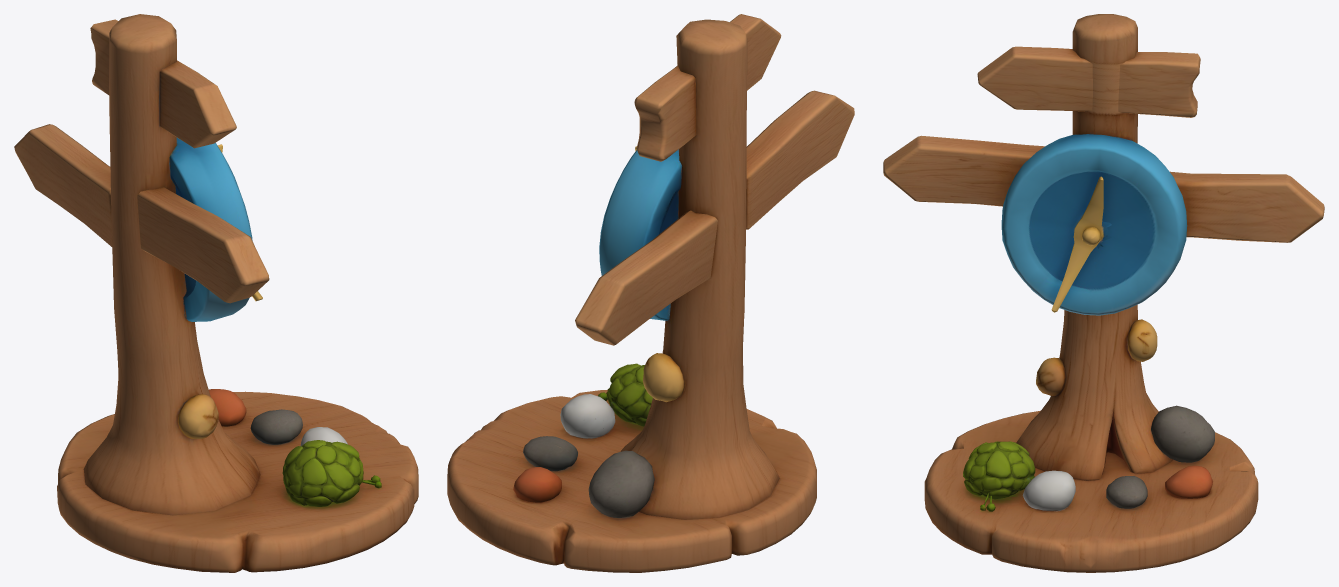
File: ending-pathfinder.glb
3 renders of one model, left to right at view 1: azimuth 30°, elevation 25°; view 2: azimuth 150°, elevation 25°; view 3: azimuth 270°, elevation 25°, orthographic. The views are drawn at different scales.
Visible parts, largest first — view 1: tripo_node_737c2c37-0666-46a1-bf50-9bfb142cfb7f; view 2: tripo_node_737c2c37-0666-46a1-bf50-9bfb142cfb7f; view 3: tripo_node_737c2c37-0666-46a1-bf50-9bfb142cfb7f.
Part boxes in pixels (bbox=[...]): tripo_node_737c2c37-0666-46a1-bf50-9bfb142cfb7f: bbox=[14, 14, 418, 572]; tripo_node_737c2c37-0666-46a1-bf50-9bfb142cfb7f: bbox=[447, 14, 854, 572]; tripo_node_737c2c37-0666-46a1-bf50-9bfb142cfb7f: bbox=[883, 14, 1324, 572].
Bounding box in the file's own units: 0.6777 × 0.998 × 0.8965.
1 material, 1 textured.
